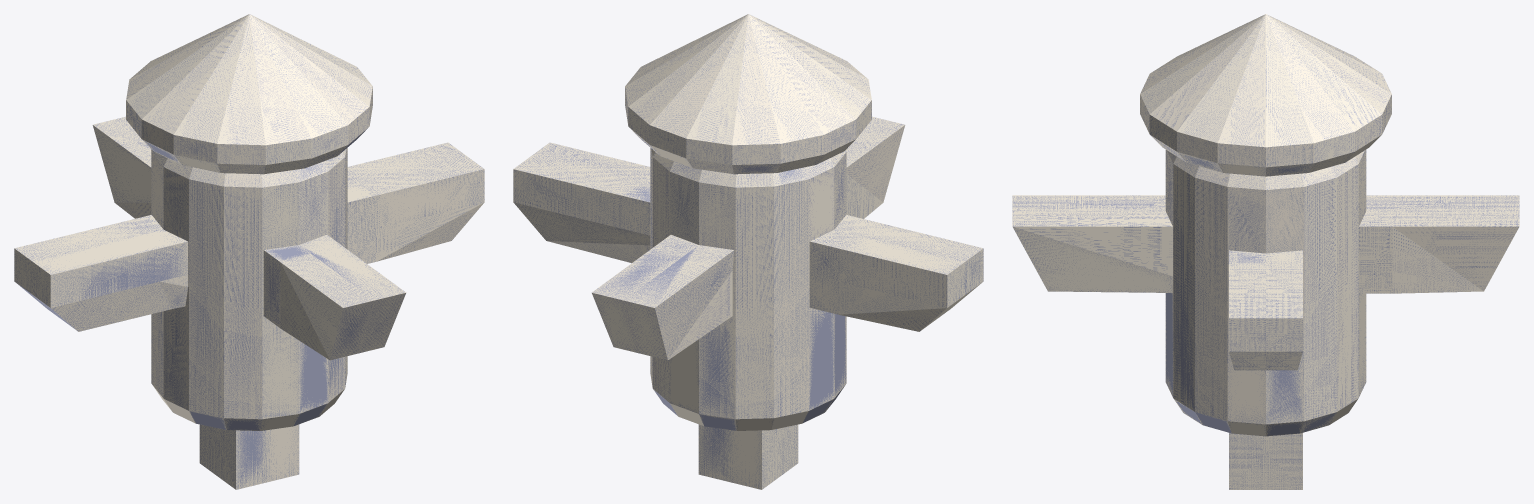
Rendered from Silo.dae.
3 views of the same model, side by side, from view 1: azimuth 30°, elevation 25°; view 2: azimuth 150°, elevation 25°; view 3: azimuth 270°, elevation 25° (orthographic).
Parts seen in each view (by area): view 1: SketchUp; view 2: SketchUp; view 3: SketchUp.
Part boxes in pixels (box(x1,y1,x2,y2)): SketchUp: box(14, 14, 484, 489); SketchUp: box(513, 14, 983, 489); SketchUp: box(1012, 14, 1519, 489).
Bounding box in the file's own units: 151 × 151 × 152.
